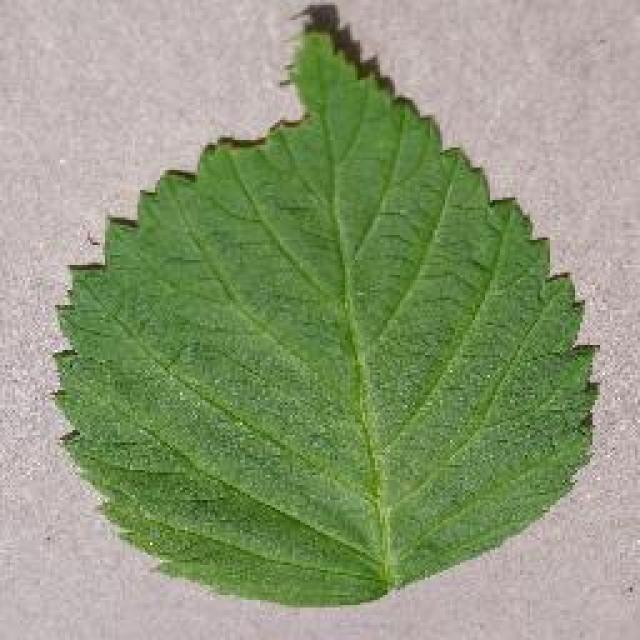Ras_healthy: (73, 58, 584, 546)
